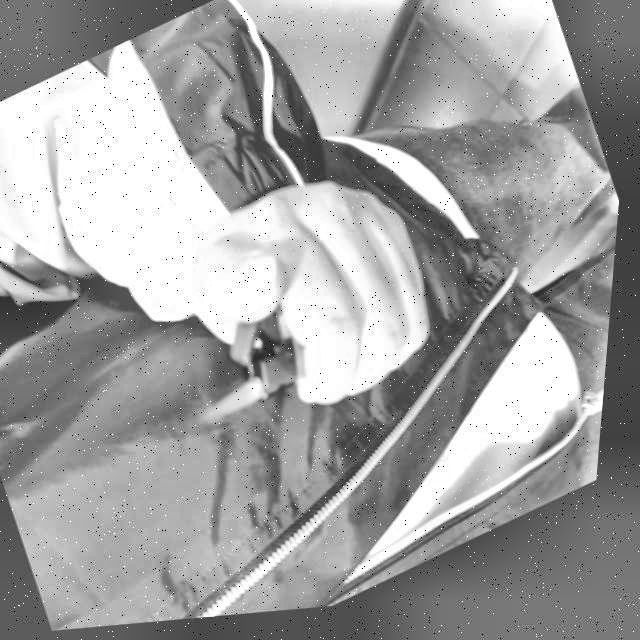Fire: (202, 377, 278, 432)
